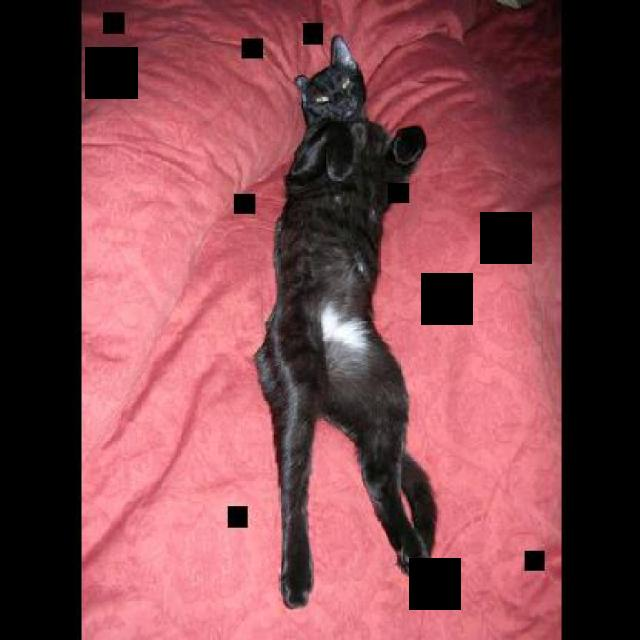unauthorized: (252, 32, 437, 610)
